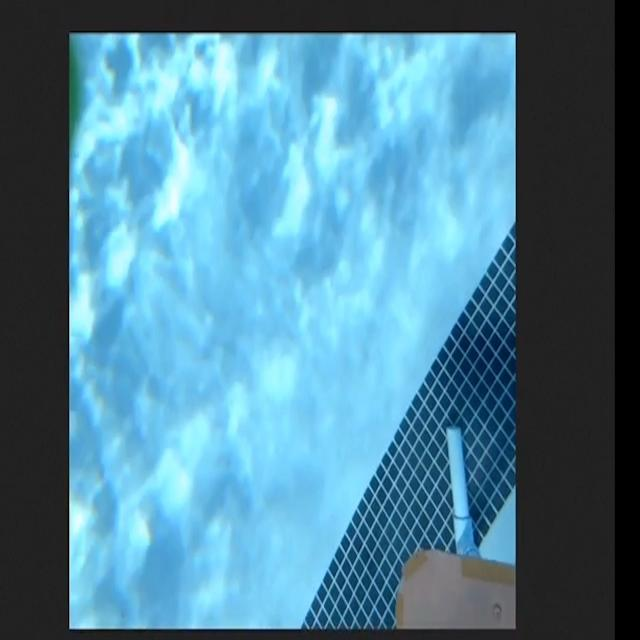Path: (396, 550, 516, 629)
